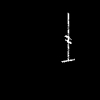treble_crochet: (62, 14, 71, 61)
